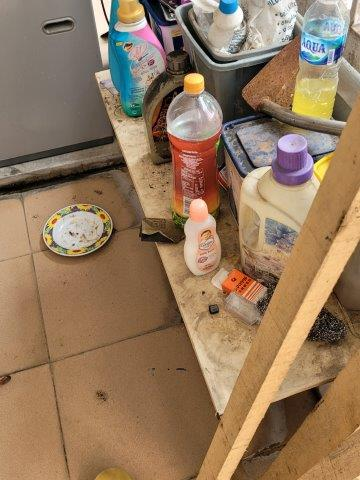botolplastik: (166, 74, 224, 223), (289, 1, 352, 121)
